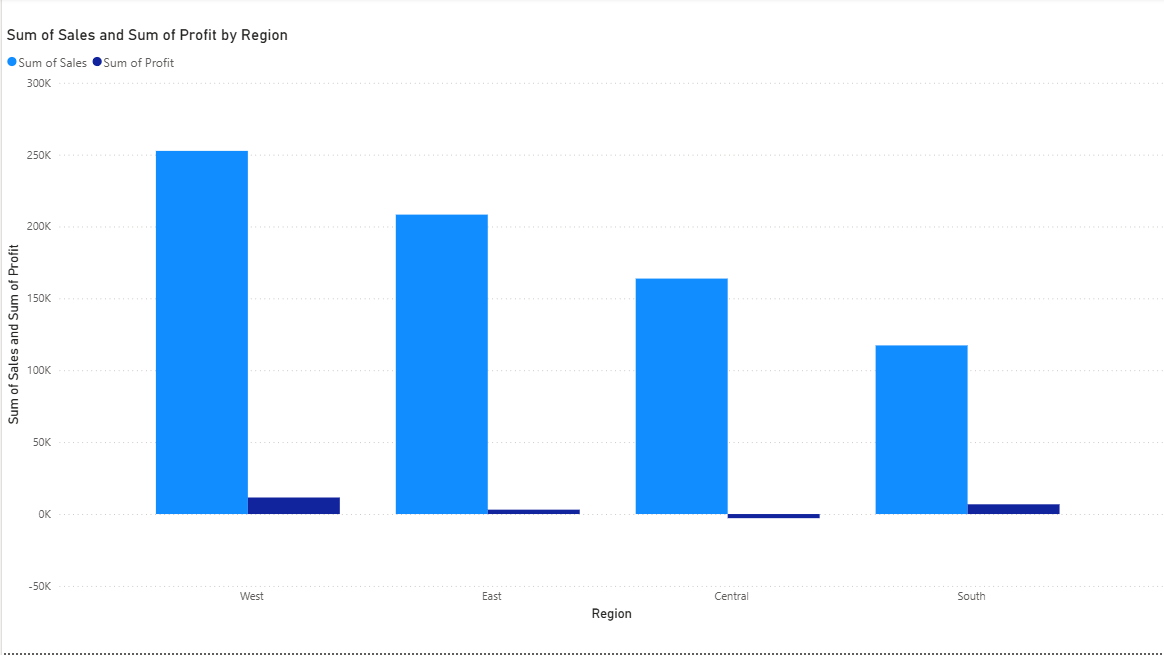

The dashboard page shown, as its layout file describes it:
{"tool":"powerbi","page":{"name":"Page 4","canvas":[1280,720],"ordinal":3},"visuals":[{"type":"clusteredColumnChart","fields":{"Y":["Sum(Super_Store_data_cleaned.Profit)"],"Category":["Super_Store_data_cleaned.Region"]},"box":[17.8,9.6,1241.9,710.8],"z":0}]}

Visuals, with their boxes in screenshot pixels (x1, y1, x2, y2), scaled from the page's 1280x720 canvas onto the 1164x655 screenshot:
clusteredColumnChart - Sum(Super_Store_data_cleaned.Profit) x Super_Store_data_cleaned.Region: {"left": 16, "top": 9, "right": 1146, "bottom": 654}
